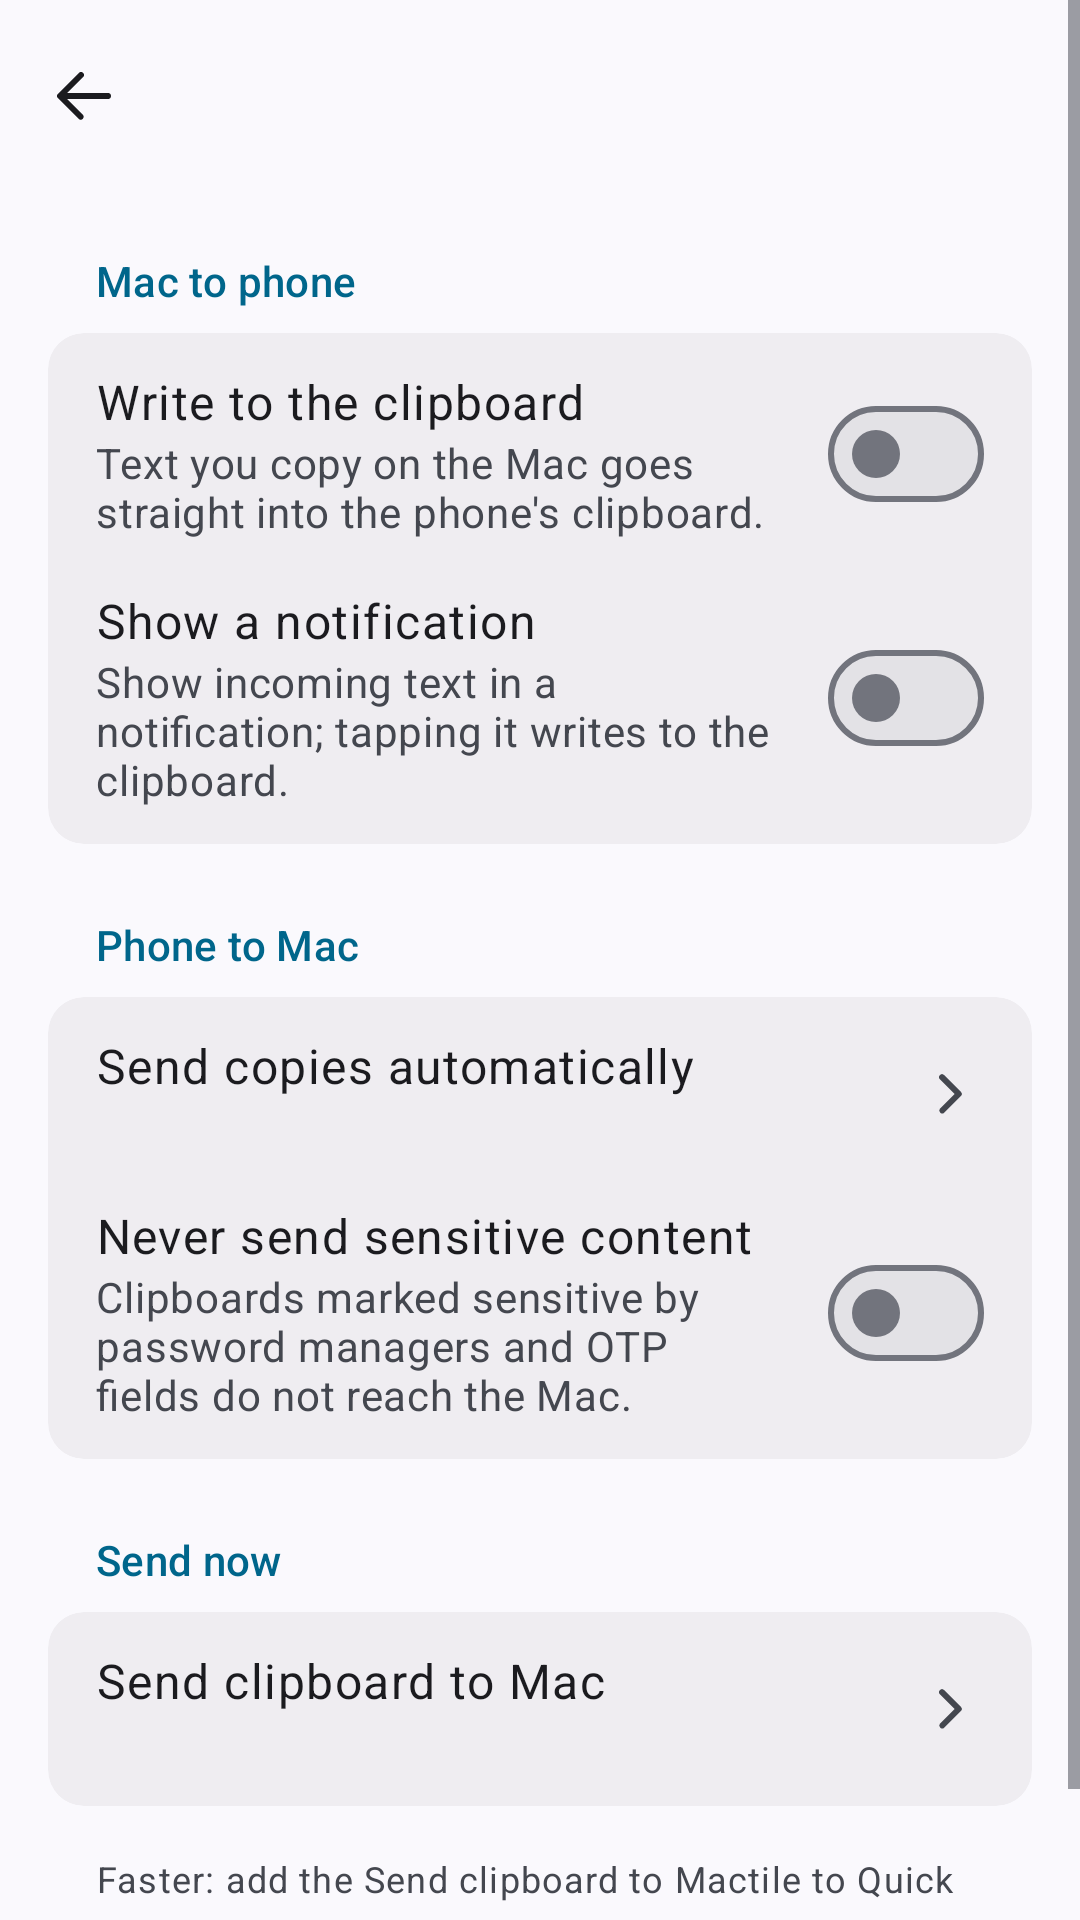

Screen size 1080*1920. Icon name, then its box in pixels as {"x1": x1, "y1": y1, "x2": x2, "y2": y2}:
Back: {"x1": 57, "y1": 72, "x2": 111, "y2": 120}
chevron: {"x1": 939, "y1": 1074, "x2": 962, "y2": 1114}, {"x1": 939, "y1": 1689, "x2": 962, "y2": 1729}
